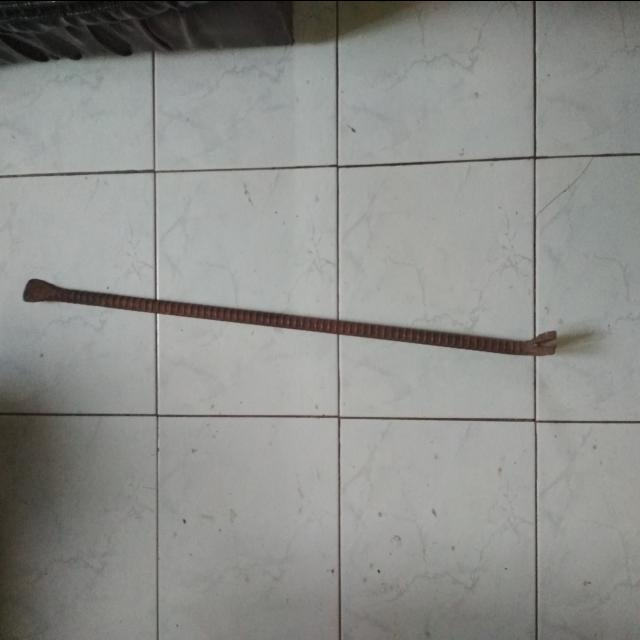Linggis: (21, 252, 559, 360)
